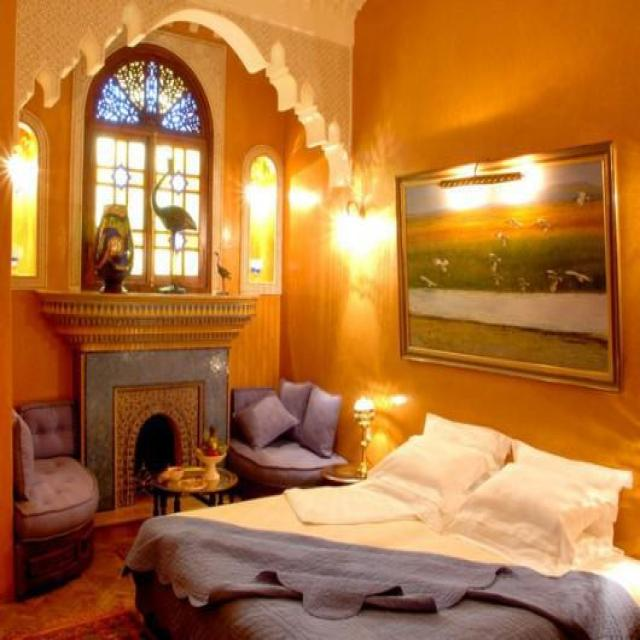other: (280, 165, 398, 267), (430, 167, 540, 214), (349, 374, 402, 454), (0, 138, 46, 208), (235, 167, 279, 240)
